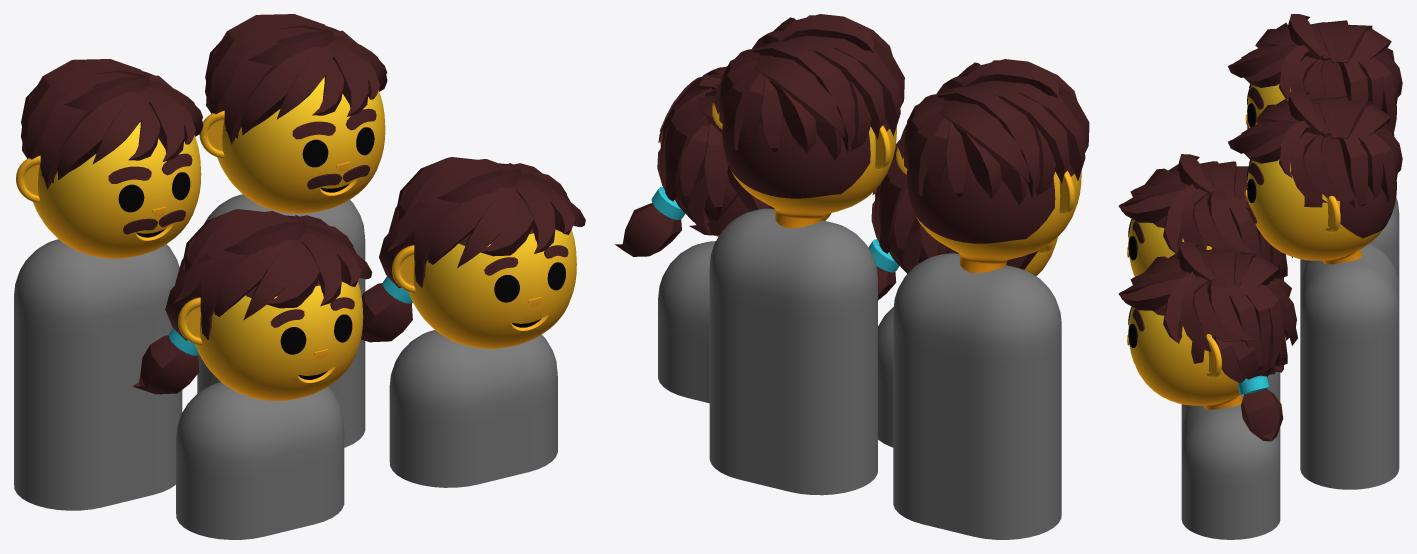
File: family_man_man_girl_girl.glb
The picture shows the model from 3 angles, left to right: view 1: azimuth 30°, elevation 25°; view 2: azimuth 150°, elevation 25°; view 3: azimuth 270°, elevation 25°; orthographic projection. The views are drawn at different scales.
Visible parts, largest first — view 1: Sphere.306, Sphere.308, Sphere.305, Cube.4962, Cube.4999, Cube.4919, Cube.4941, Roundcube.368, Roundcube.365, Roundcube.367, Roundcube.366, Sphere.307 (+14 smaller); view 2: Sphere.307, Sphere.306, Cube.4941, Cube.4919, Roundcube.367, Roundcube.366, Cube.4999, Sphere.308, Cube.4962, Cube.5017, Sphere.305, Cylinder.246 (+2 smaller); view 3: Sphere.307, Cube.4999, Cube.4941, Sphere.308, Cube.4919, Cube.4962, Roundcube.367, Roundcube.368, Cube.5017, Roundcube.365, Sphere.306, Roundcube.366 (+4 smaller).
Boxes of the visible parts, x1,y1,x2,y2 form: Sphere.306: (14,239,182,510); Sphere.308: (389,330,557,487); Sphere.305: (176,382,344,539); Cube.4962: (165,209,372,340); Cube.4999: (379,157,585,287); Cube.4919: (21,59,203,189); Cube.4941: (205,14,387,144); Roundcube.368: (408,228,576,348); Roundcube.365: (195,280,363,400); Roundcube.367: (217,77,385,213); Roundcube.366: (33,122,201,258); Sphere.307: (197,194,365,447); Sphere.307: (709,208,877,495); Sphere.306: (893,253,1061,539); Cube.4941: (713,14,904,160); Cube.4919: (898,59,1089,205); Roundcube.367: (722,116,896,228); Roundcube.366: (907,161,1081,273); Cube.4999: (657,66,774,235); Sphere.308: (658,241,715,403); Cube.4962: (871,139,1038,278); Cube.5017: (615,203,681,256); Sphere.305: (878,307,893,447); Cylinder.246: (712,102,890,169); Sphere.307: (1300,243,1399,489); Cube.4999: (1118,242,1297,383); Cube.4941: (1228,89,1402,206); Sphere.308: (1181,395,1280,539); Cube.4919: (1228,14,1402,124); Cube.4962: (1118,154,1292,280); Roundcube.367: (1247,132,1396,264); Roundcube.368: (1128,292,1246,410); Cube.5017: (1241,370,1283,441); Roundcube.365: (1128,204,1213,276); Sphere.306: (1300,197,1399,287); Roundcube.366: (1247,56,1396,131).
Bounding box in the file's own units: 2.7 × 2.2 × 1.59.
1 material, 1 textured.
